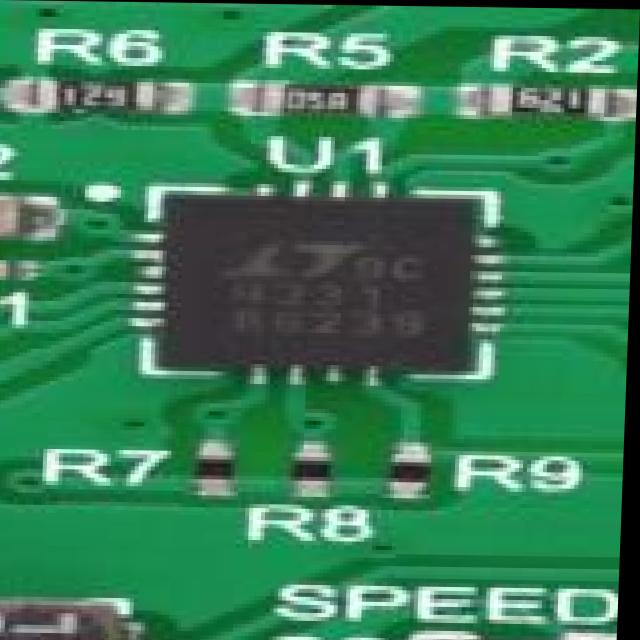capacitor: (0, 196, 34, 244), (0, 264, 32, 284)
resistor: (33, 80, 198, 114), (497, 82, 634, 121), (261, 83, 386, 117), (386, 449, 447, 493), (294, 452, 351, 492), (206, 455, 247, 495), (441, 637, 618, 640)
switch: (0, 600, 155, 640)
